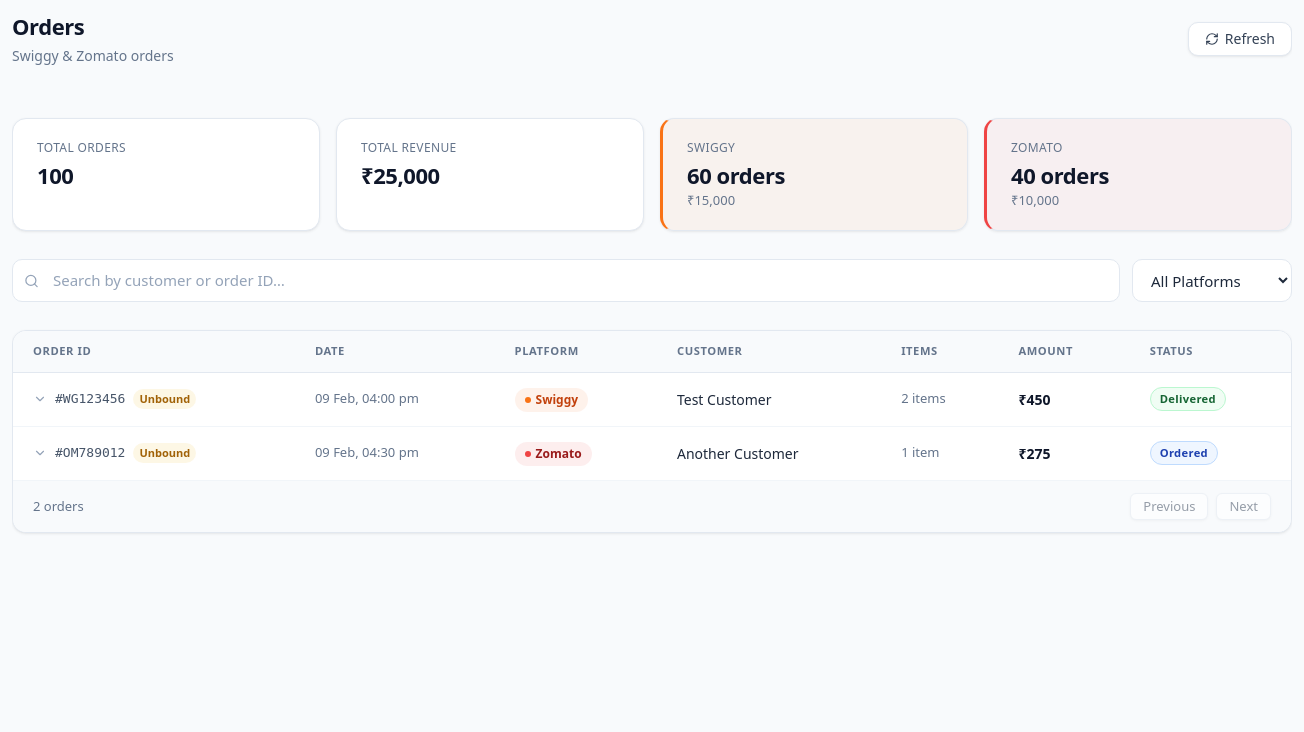
Scenario: OrdersPage › expands order row to show items
Check: the text "Test Customer" is shown, box [657,372,881,426]
Click the text "Test Customer". click: [652, 399]
box: [13,372,1291,426]
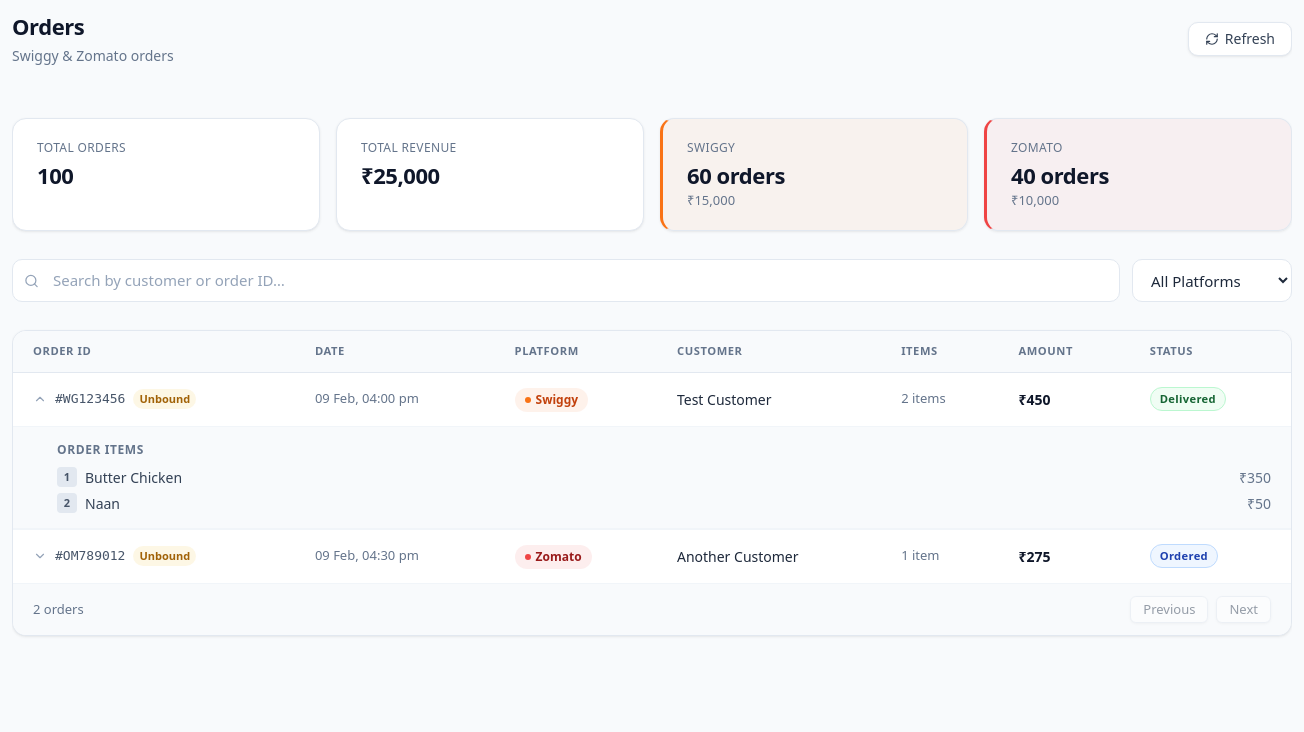
Check: the text "Butter Chicken" is shown, box [85,467,182,488]
Check: the text "Naan" is shown, box [85,493,120,514]
